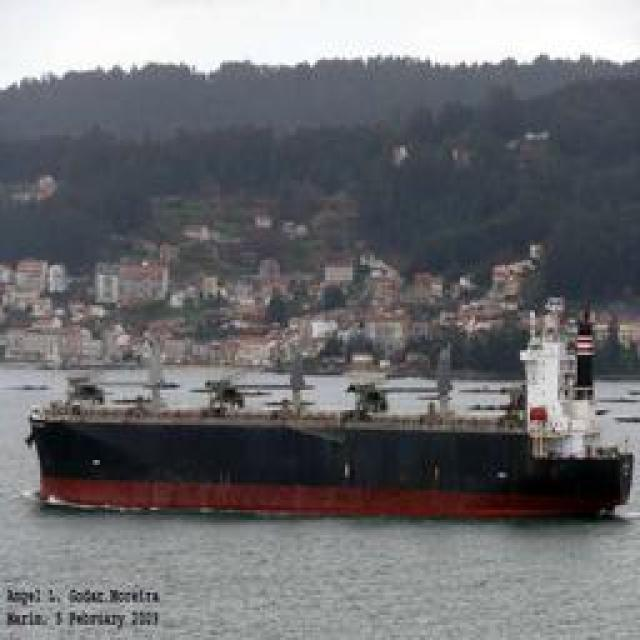ship2: (22, 306, 637, 520)
